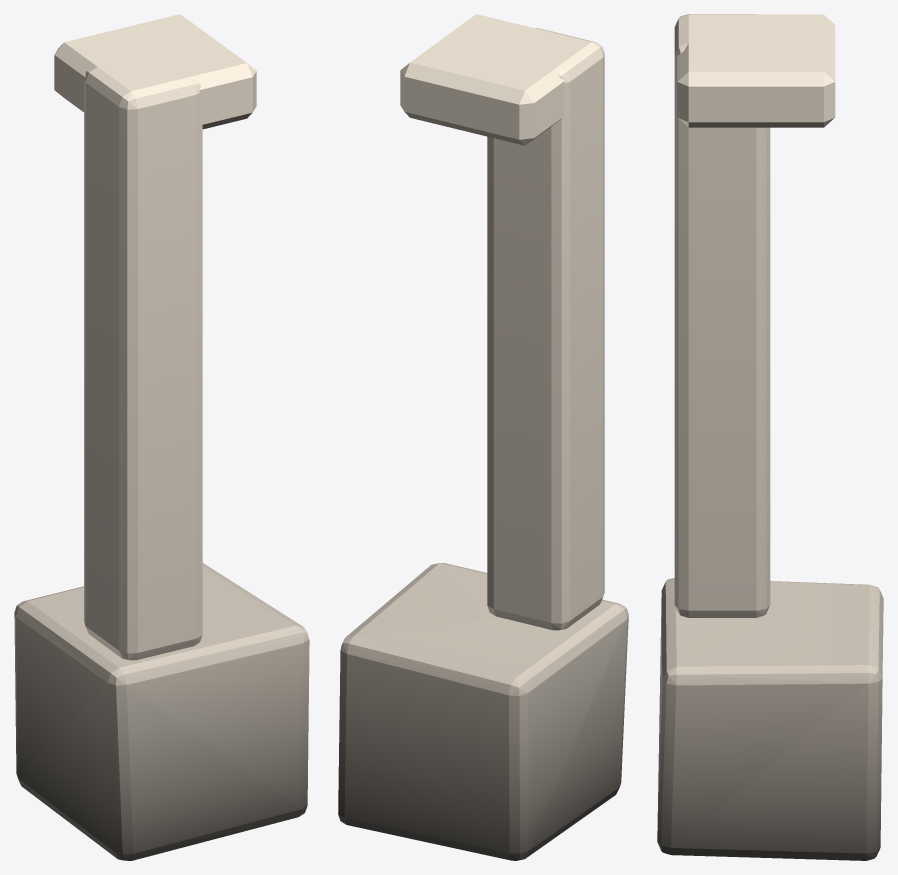
Rendered from SM_VK_Corner_Plaster.fbx.
The picture shows the model from 3 angles, left to right: view 1: azimuth 30°, elevation 25°; view 2: azimuth 150°, elevation 25°; view 3: azimuth 270°, elevation 25°; orthographic projection.
Parts seen in each view (by area): view 1: SM_VK_Corner_Plaster.001; view 2: SM_VK_Corner_Plaster.001; view 3: SM_VK_Corner_Plaster.001.
Part boxes in pixels (x1,y1,x2,y2): SM_VK_Corner_Plaster.001: [14, 14, 309, 860]; SM_VK_Corner_Plaster.001: [338, 14, 628, 860]; SM_VK_Corner_Plaster.001: [657, 14, 883, 860].
Size of the model in its own units: 0.8288 by 3.02 by 0.8035.
